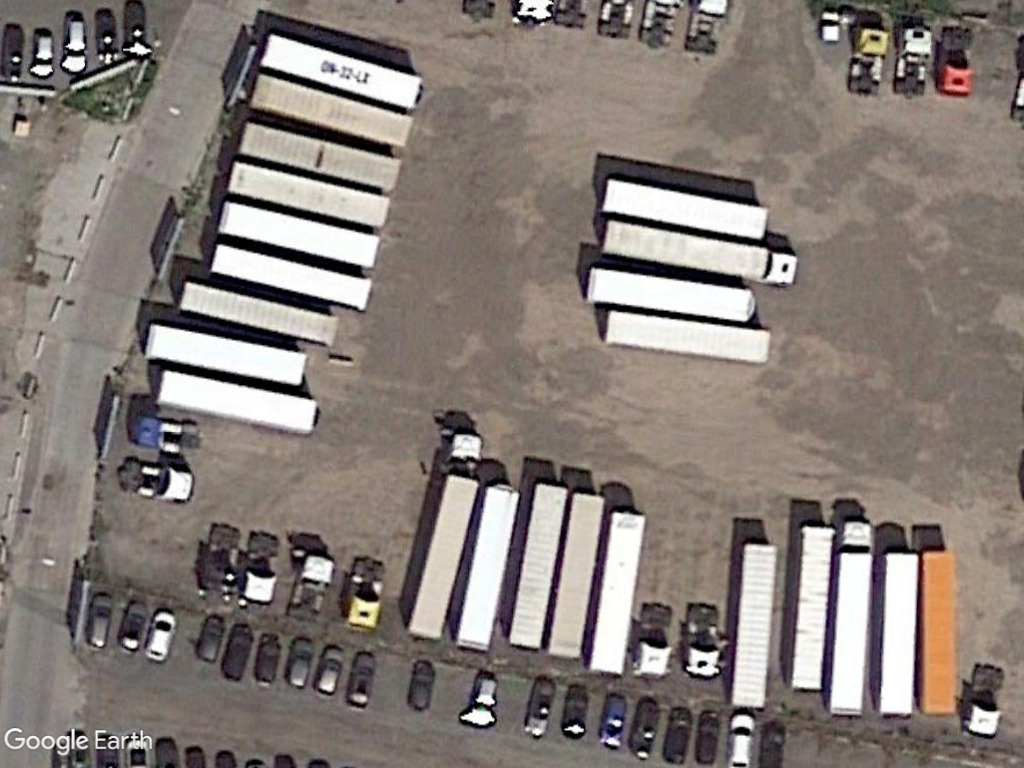car: (142, 606, 179, 666), (87, 588, 119, 652), (59, 15, 92, 77), (727, 711, 756, 768), (28, 27, 57, 82)
longvehicle: (398, 428, 489, 645), (255, 26, 427, 115), (602, 215, 798, 292), (246, 68, 418, 150), (174, 272, 343, 353), (222, 152, 394, 229), (153, 362, 320, 440), (232, 118, 408, 191), (598, 174, 770, 248), (450, 472, 520, 653), (208, 239, 378, 313), (213, 197, 386, 269), (139, 317, 310, 388), (546, 487, 613, 661), (583, 262, 755, 326), (586, 508, 650, 680), (785, 514, 844, 695), (828, 512, 877, 719), (599, 308, 771, 366), (725, 539, 780, 709), (509, 478, 556, 647), (874, 543, 918, 720), (916, 543, 960, 717)
